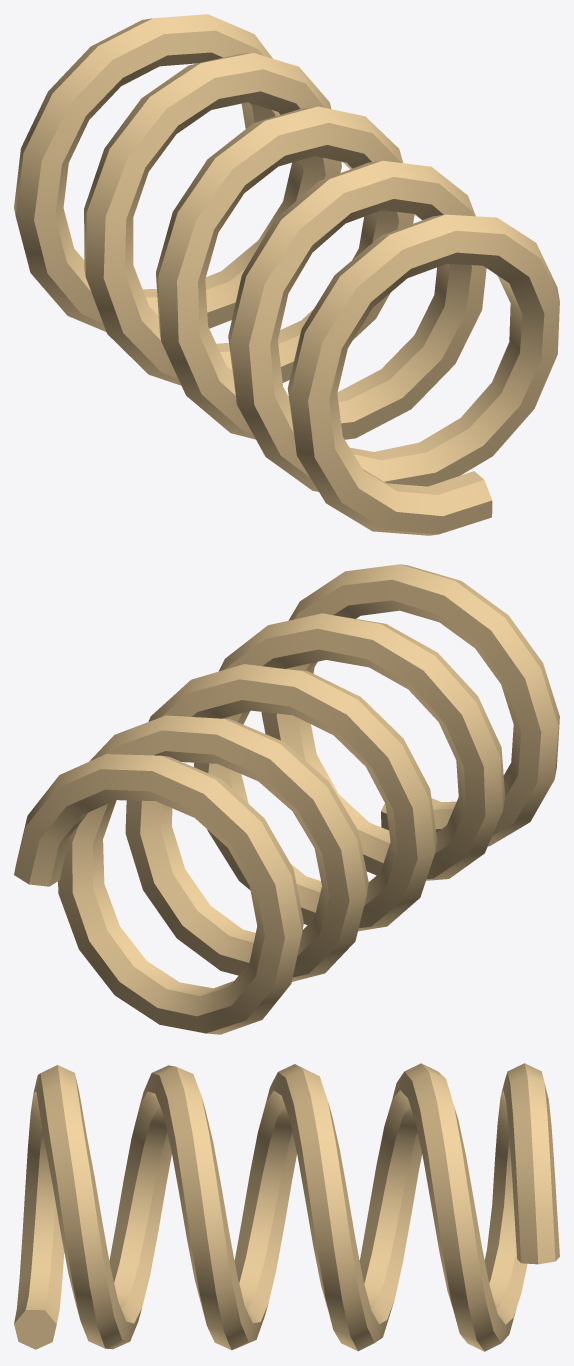
Rendered from SM_Susp_RR_Spring.fbx.
3 views of the same model, one above another, from view 1: azimuth 30°, elevation 25°; view 2: azimuth 150°, elevation 25°; view 3: azimuth 270°, elevation 25° (orthographic). The views are drawn at different scales.
Visible parts, largest first — view 1: Export_Susp_RR_Spring; view 2: Export_Susp_RR_Spring; view 3: Export_Susp_RR_Spring.
Boxes of the visible parts, box(x1,y1,x2,y2) form: Export_Susp_RR_Spring: box(14, 14, 559, 535); Export_Susp_RR_Spring: box(14, 564, 559, 1034); Export_Susp_RR_Spring: box(14, 1063, 559, 1351).
Bounding box in the file's own units: 0.1539 × 0.0813 × 0.0813.
